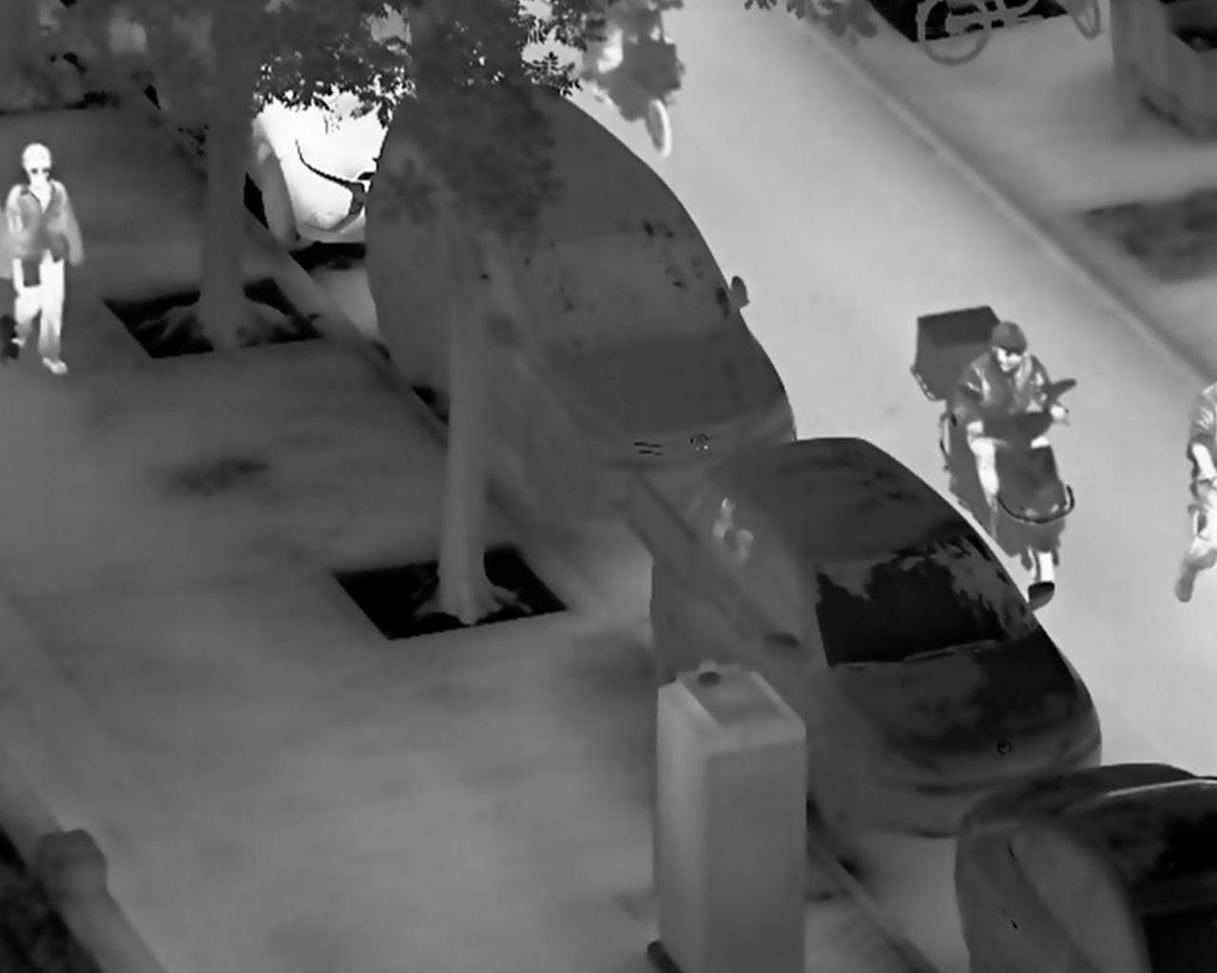person: (945, 322, 1072, 514), (2, 142, 84, 375)
